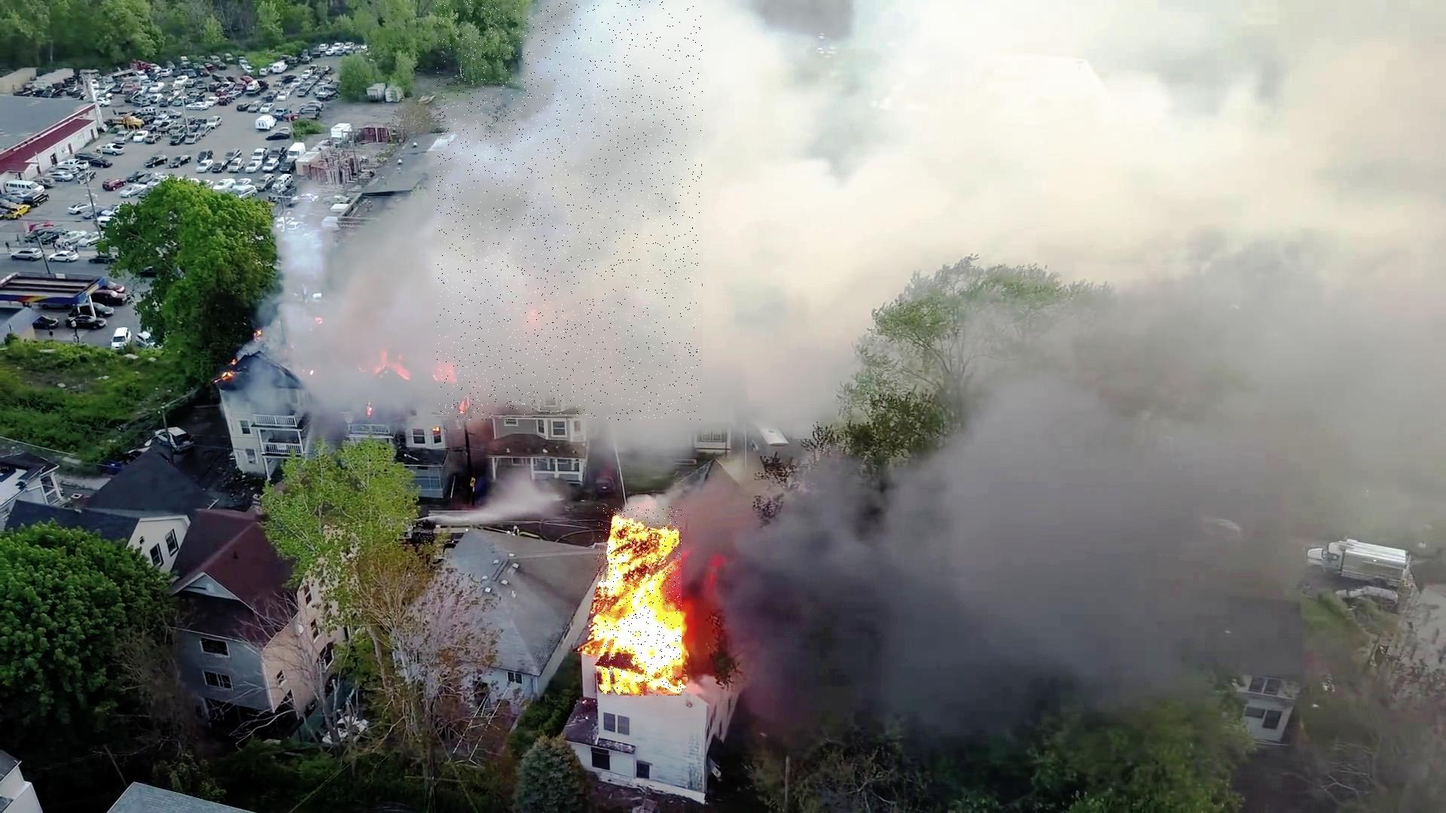fire: (597, 507, 682, 696)
smoke: (436, 0, 703, 420)
